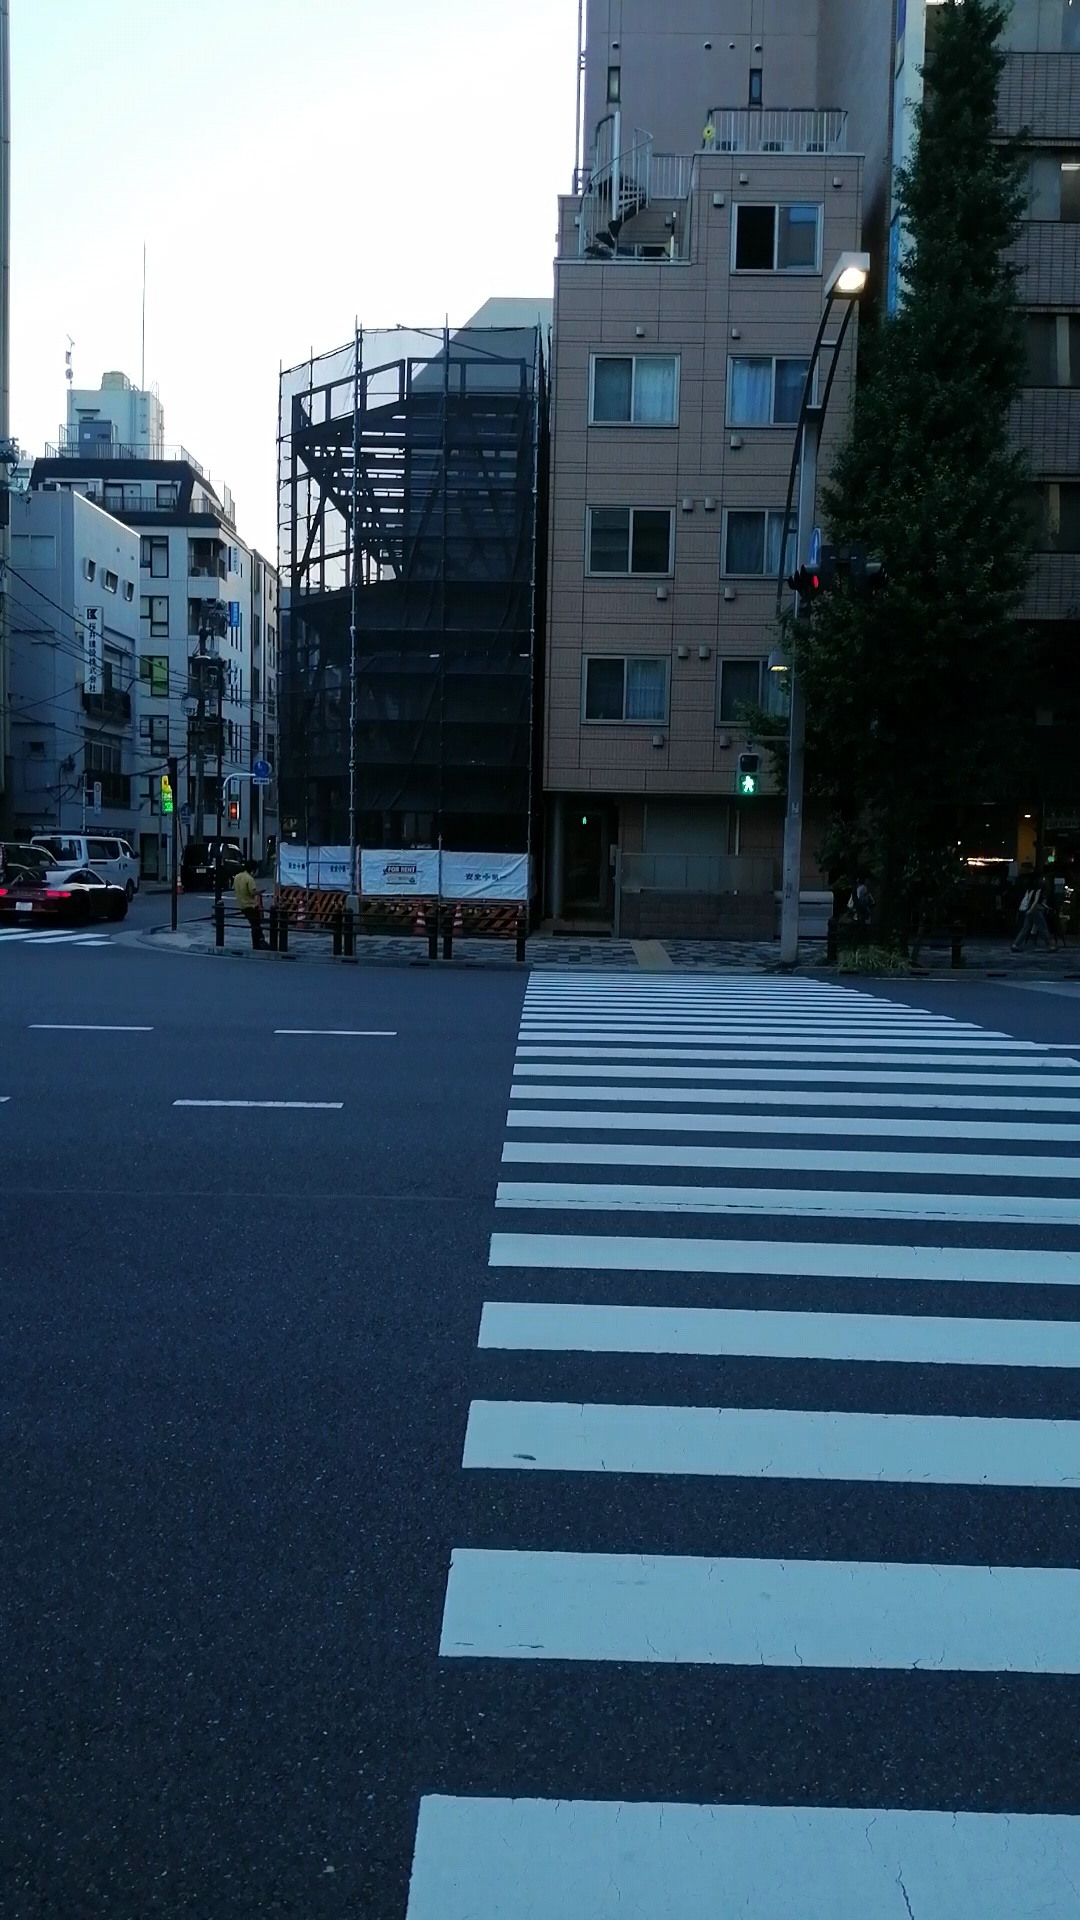green: (735, 752, 762, 799)
